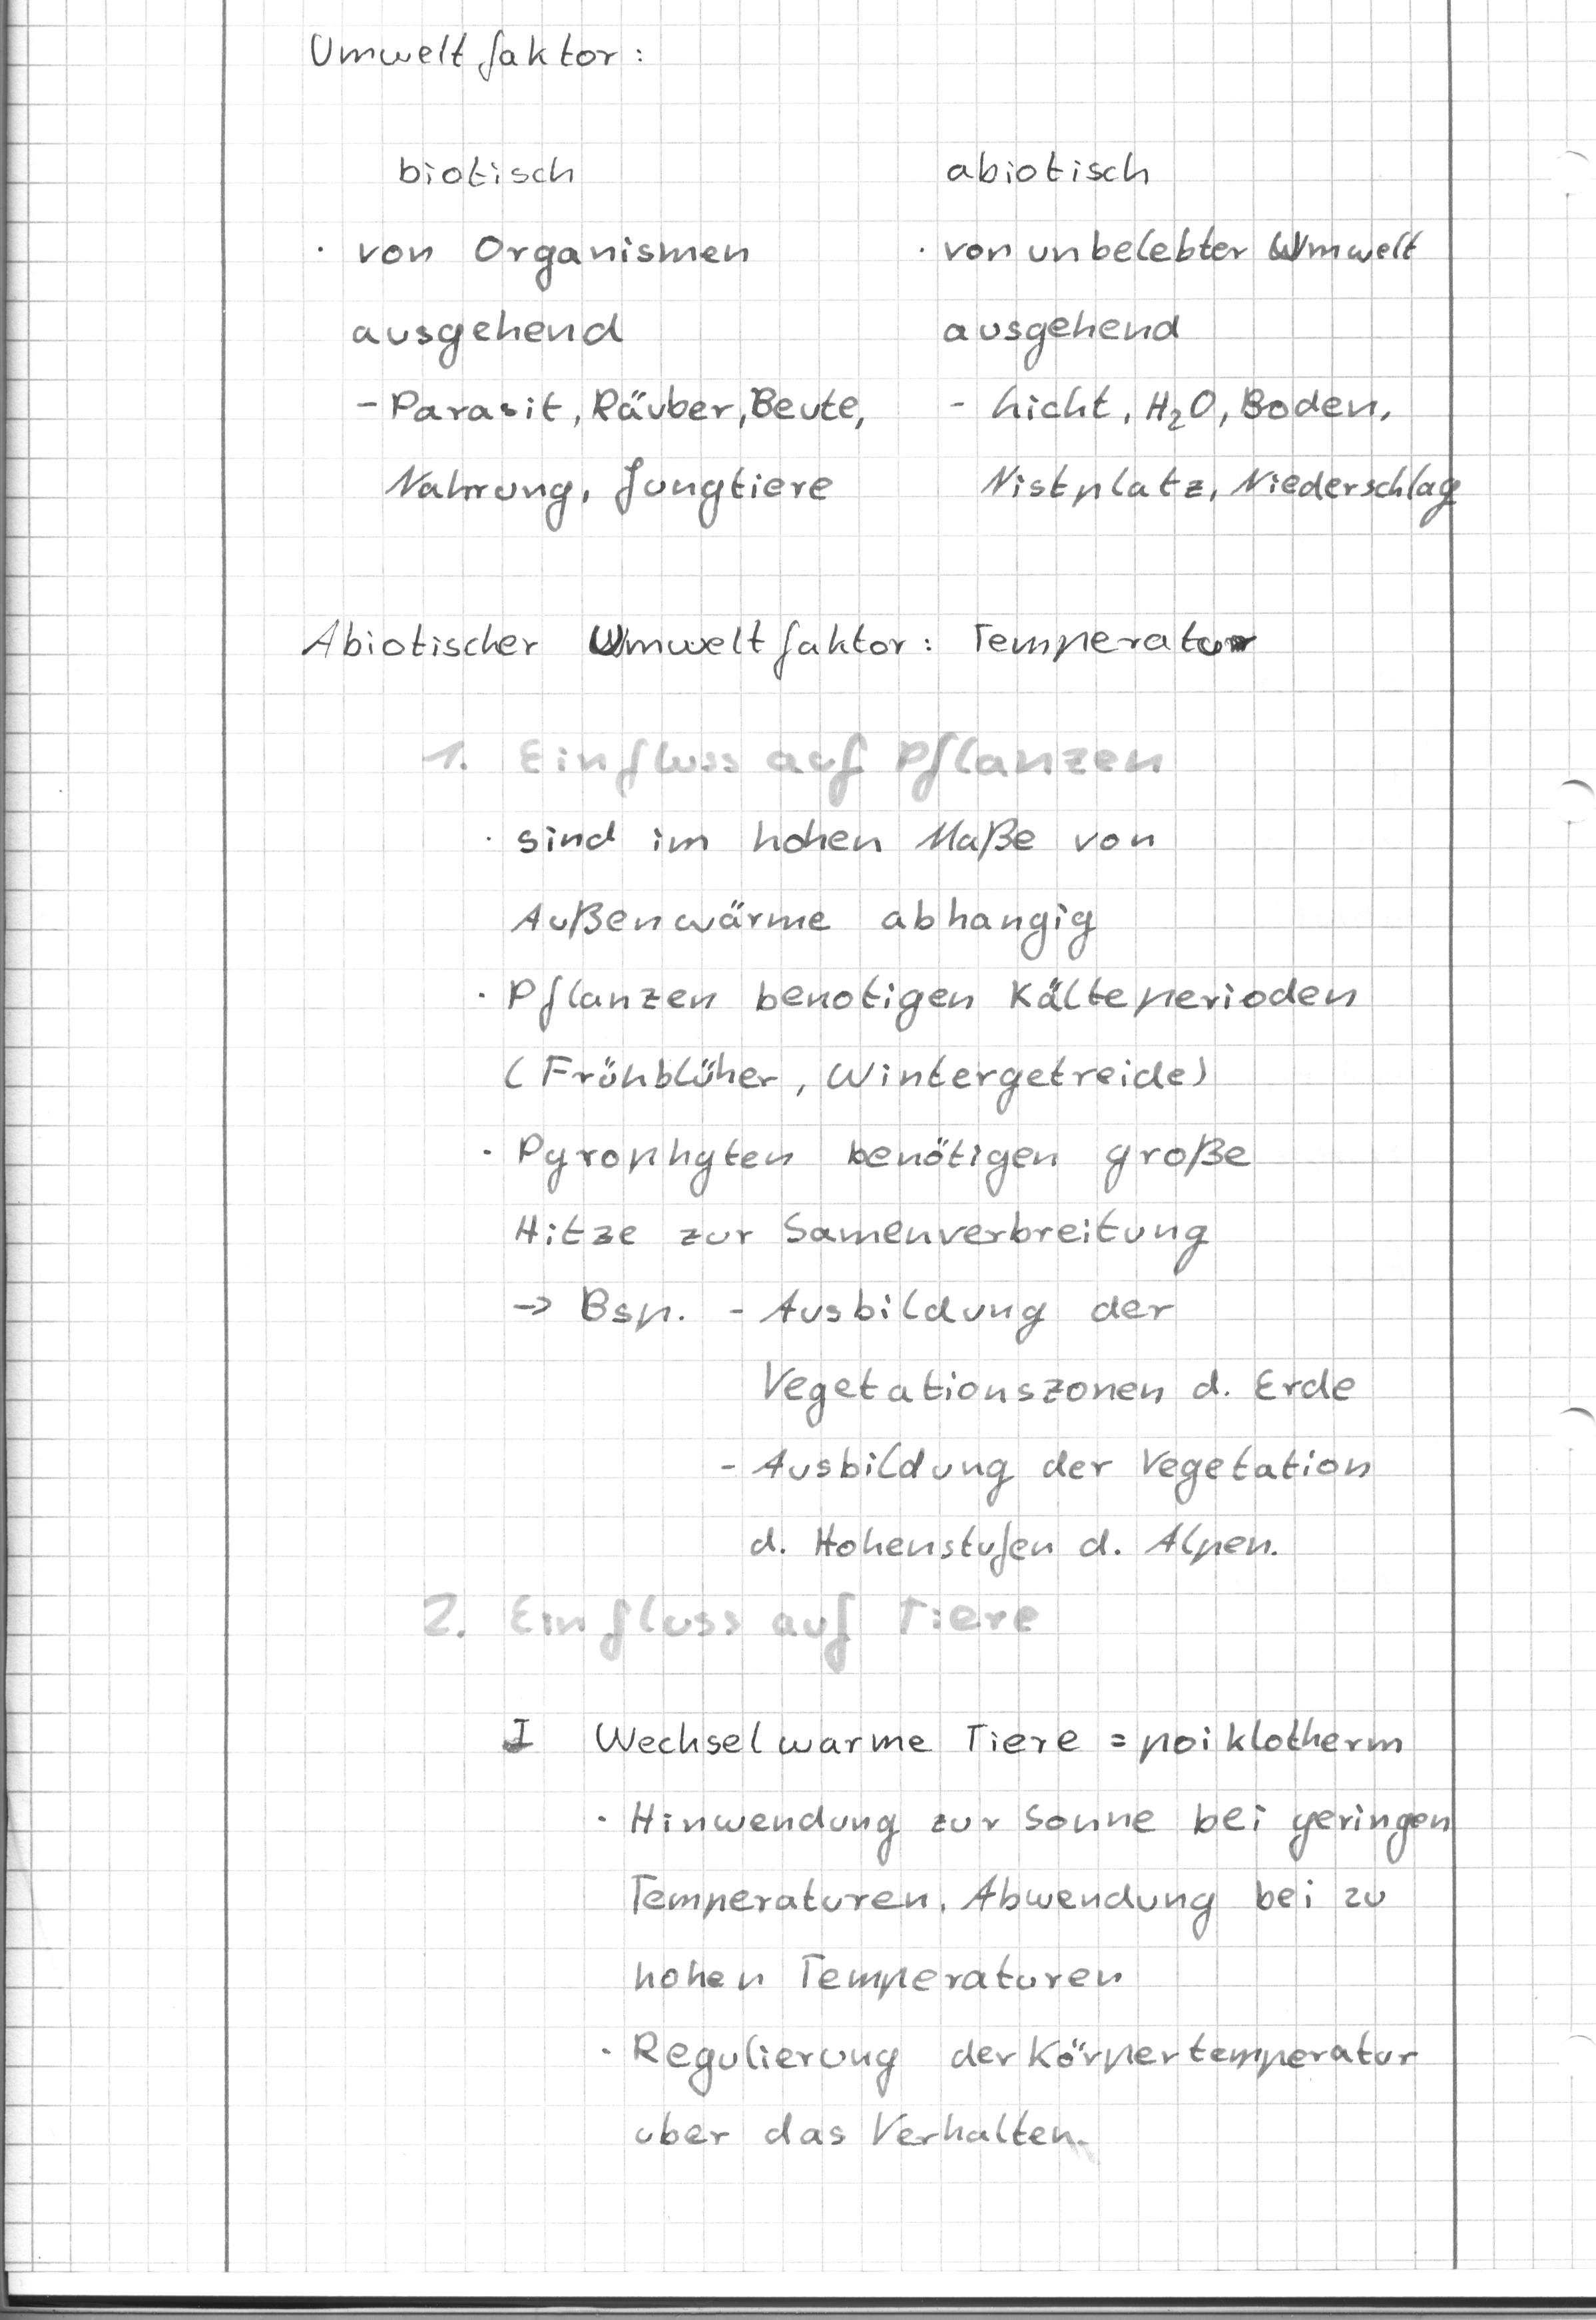word: (466, 809, 1364, 1278), (578, 1787, 1463, 2170), (711, 1279, 1376, 1579), (302, 222, 877, 547), (909, 221, 1467, 537), (1097, 1701, 1418, 1775), (497, 1263, 692, 1342)
